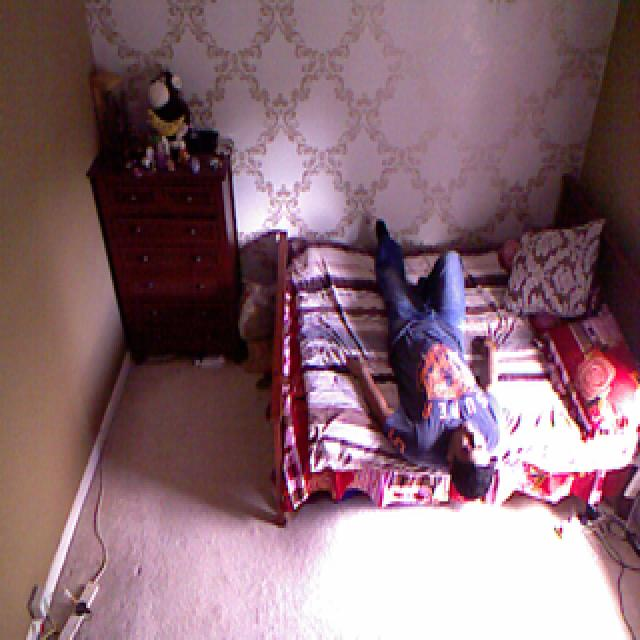lying: (353, 214, 506, 497)
